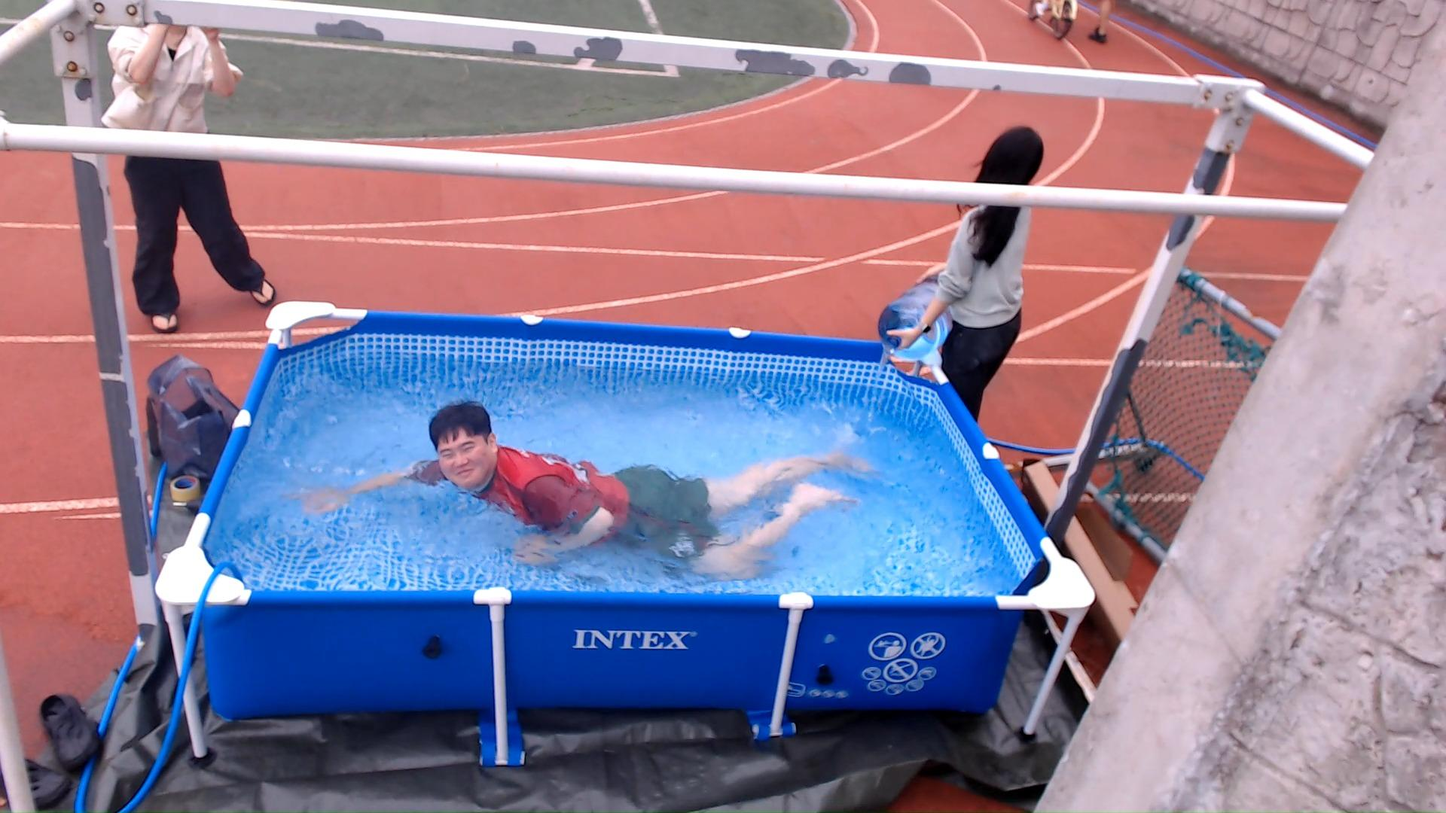Swimming: (270, 356, 890, 583)
